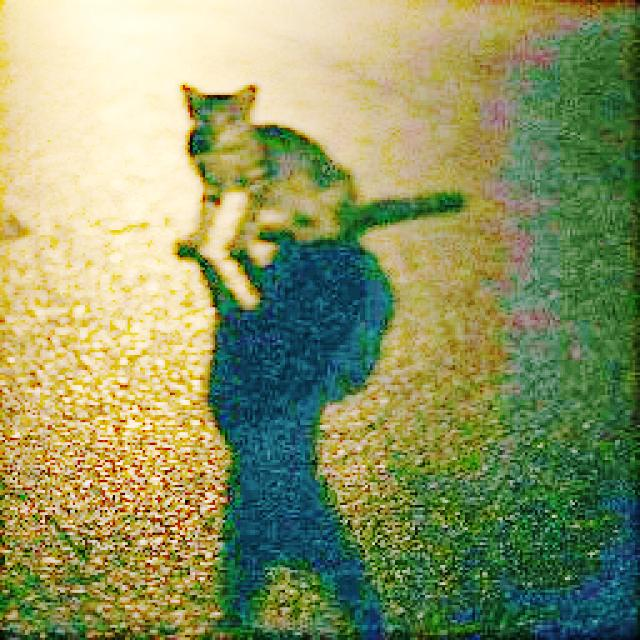cat: (137, 35, 484, 300)
